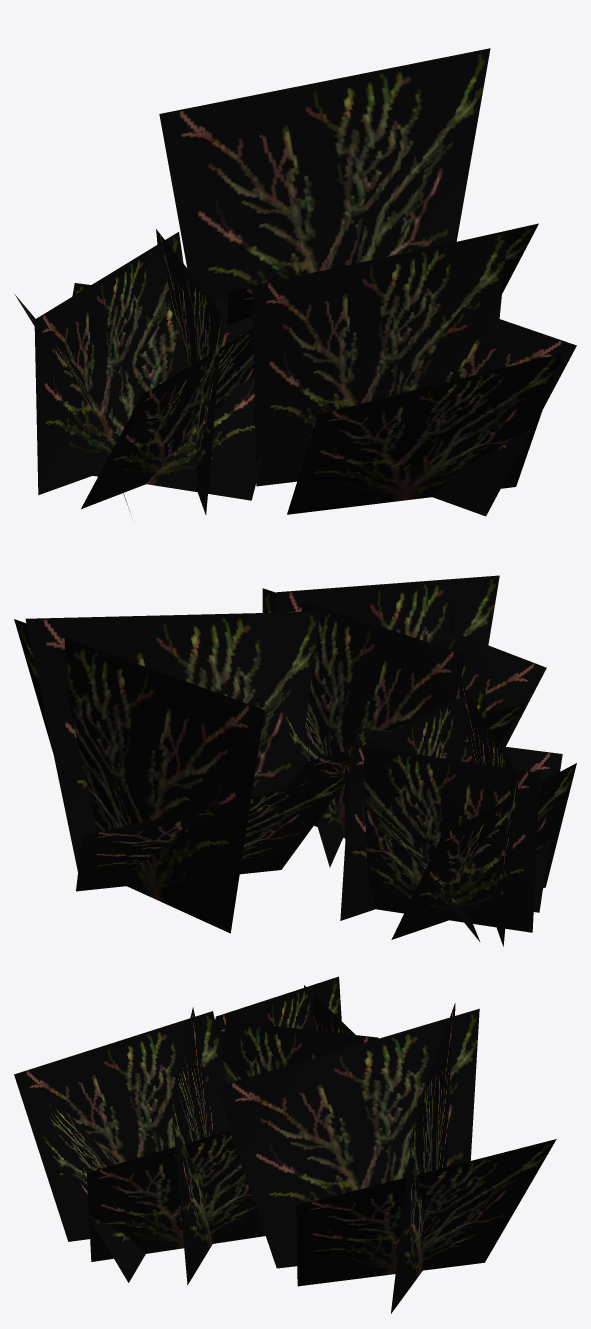
Rendered from kugm_yc_41_03.FBX.
3 renders of one model, top to bottom at view 1: azimuth 30°, elevation 25°; view 2: azimuth 150°, elevation 25°; view 3: azimuth 270°, elevation 25°, orthographic. The views are drawn at different scales.
Visible parts, largest first — view 1: kugm_yc_41_03; view 2: kugm_yc_41_03; view 3: kugm_yc_41_03.
Part boxes in pixels (left/top/right/bottom): kugm_yc_41_03: left=14, top=48, right=576, bottom=516; kugm_yc_41_03: left=14, top=575, right=576, bottom=946; kugm_yc_41_03: left=14, top=976, right=556, bottom=1313.
Size of the model in its own units: 261 by 143 by 296.
